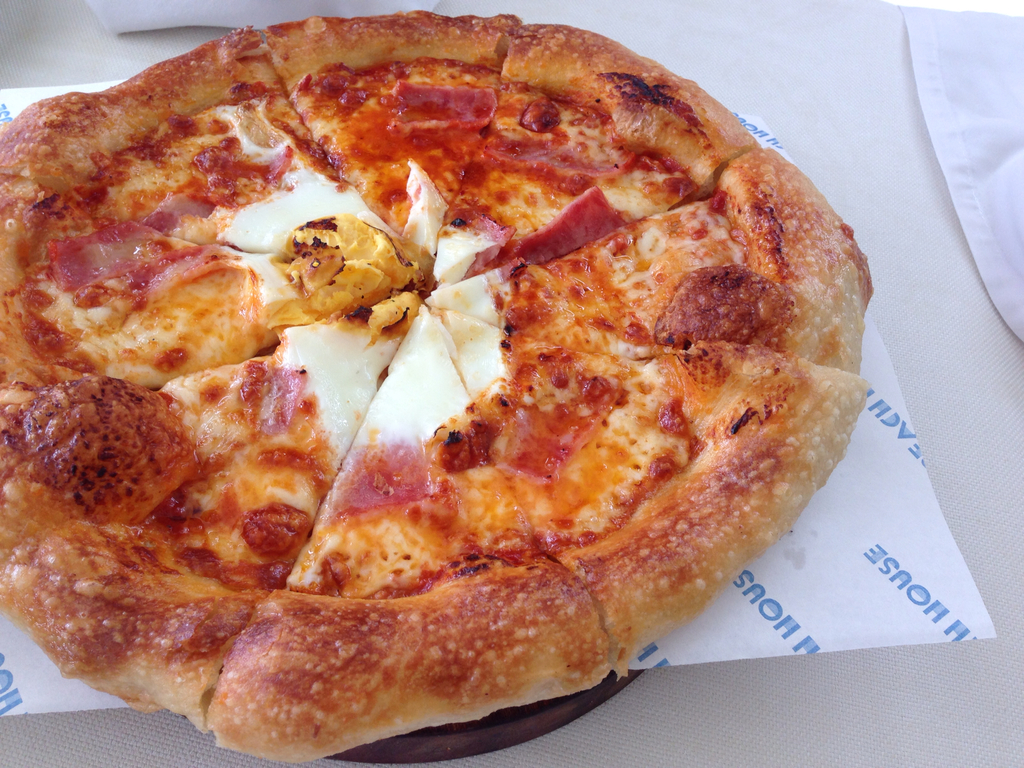Pizza: (19, 20, 905, 743)
